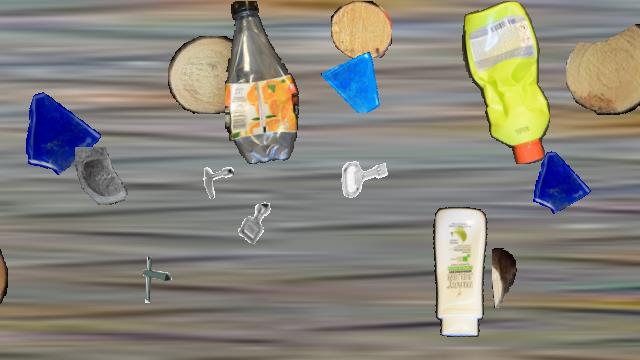glass: (13, 85, 103, 175), (69, 147, 137, 215), (527, 148, 593, 214), (321, 50, 383, 112)
metal: (333, 148, 393, 208), (227, 195, 283, 251), (128, 253, 180, 305), (192, 156, 234, 198)
plastic: (461, 1, 551, 163), (225, 1, 301, 163), (426, 207, 490, 337)
wood: (566, 23, 640, 115), (168, 36, 250, 114), (331, 1, 391, 59), (492, 248, 516, 308), (0, 230, 8, 324)
